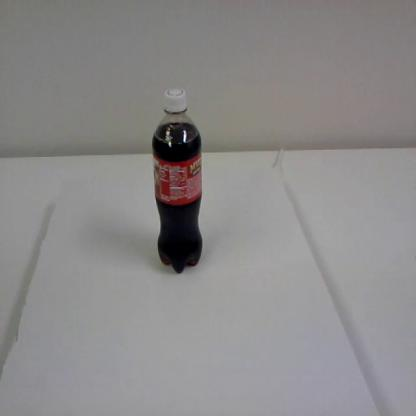bottle: (151, 86, 205, 276)
